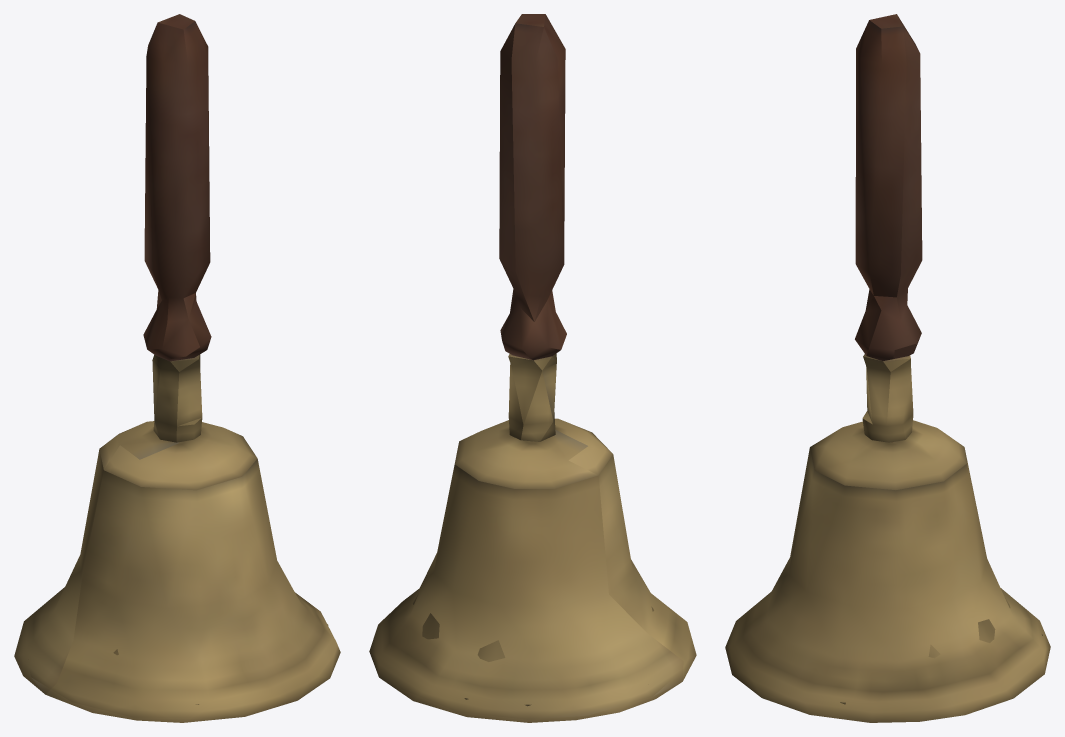
The model's file is desk-bell.lod1.glb.
3 renders of one model, left to right at view 1: azimuth 30°, elevation 25°; view 2: azimuth 150°, elevation 25°; view 3: azimuth 270°, elevation 25°, orthographic.
Parts seen in each view (by area): view 1: desk-bell; view 2: desk-bell; view 3: desk-bell.
Boxes of the visible parts, <box> form: desk-bell: <box>14,14,340,722</box>; desk-bell: <box>369,14,696,722</box>; desk-bell: <box>725,14,1050,722</box>.
Bounding box in the file's own units: 0.0645 × 0.1386 × 0.0646.
Materials: 1 (1 with a texture image).
